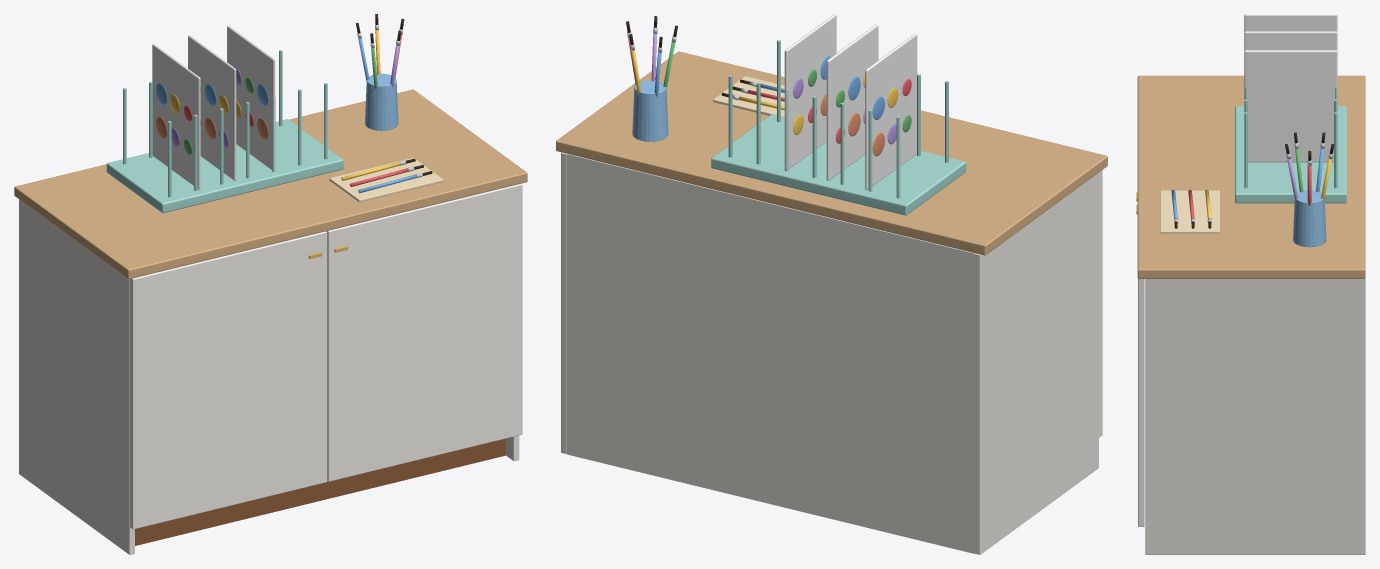
Rendered from drying_cabinet.glb.
The picture shows the model from 3 angles, left to right: view 1: azimuth 30°, elevation 25°; view 2: azimuth 150°, elevation 25°; view 3: azimuth 270°, elevation 25°; orthographic projection. The views are drawn at different scales.
Visible parts, largest first — view 1: DryCab_Door0, DryCab_Door1, DryCab_Top, DryCab_Side0, RackTray, DryCab_Plinth, Palette0, Palette2, Palette1, DryTowel, BrushCup; view 2: DryCab_Back, DryCab_Side0, DryCab_Top, RackTray, Palette0, Palette2, Palette1, BrushCup, DryCab_Side1, DryTowel, DryCab_Door0; view 3: DryCab_Side1, DryCab_Top, Palette2, RackTray, DryTowel, Palette1, DryCab_Door1, Palette0, BrushCup, RackPin6_0, RackPin6_1.
Part boxes in pixels (<box>): DryCab_Door0: <box>130,231,327,529</box>; DryCab_Door1: <box>326,183,522,481</box>; DryCab_Top: <box>14,89,527,279</box>; DryCab_Side0: <box>19,199,134,554</box>; RackTray: <box>106,119,343,213</box>; DryCab_Plinth: <box>135,439,505,545</box>; Palette0: <box>152,44,200,189</box>; Palette2: <box>227,25,275,170</box>; Palette1: <box>188,35,236,180</box>; DryTowel: <box>329,157,443,202</box>; BrushCup: <box>365,73,398,130</box>; DryCab_Back: <box>567,154,974,553</box>; DryCab_Side0: <box>974,172,1098,554</box>; DryCab_Top: <box>556,51,1107,255</box>; RackTray: <box>711,114,966,215</box>; Palette0: <box>865,33,917,190</box>; Palette2: <box>784,14,836,169</box>; Palette1: <box>826,24,878,180</box>; BrushCup: <box>632,80,668,141</box>; DryCab_Side1: <box>561,152,567,453</box>; DryTowel: <box>713,76,784,117</box>; DryCab_Door0: <box>1099,170,1102,437</box>; DryCab_Side1: <box>1145,278,1365,554</box>; DryCab_Top: <box>1137,75,1365,278</box>; Palette2: <box>1244,50,1337,162</box>; RackTray: <box>1235,106,1346,203</box>; DryTowel: <box>1160,190,1219,233</box>; Palette1: <box>1244,31,1337,50</box>; DryCab_Door1: <box>1138,279,1144,526</box>; Palette0: <box>1244,14,1337,31</box>; BrushCup: <box>1293,190,1326,247</box>; RackPin6_0: <box>1244,112,1247,188</box>; RackPin6_1: <box>1334,112,1337,188</box>.
Bounding box in the file's own units: 2.73 × 2.69 × 1.36.
